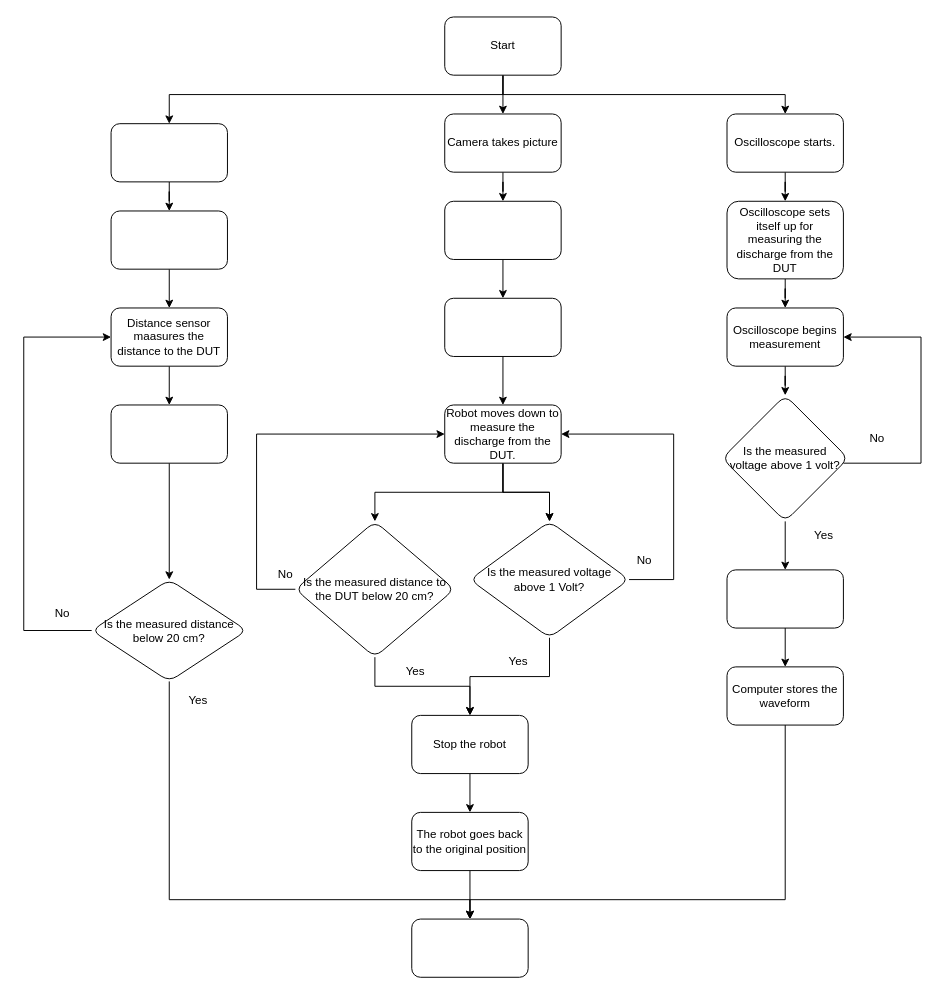
Image size: 946x994. Some labels were removed from this diagram. The box of each missing label's shape, as (x1, y1, x2, y2) in pixels:
Break: (411, 918, 528, 977)
Camera finds distance to DUT: (444, 200, 561, 259)
Microcontorller sends the measured distance to the computer: (110, 404, 227, 463)
Microcontroller starts: (110, 123, 227, 182)
Microcontroller starts distance sensor.: (110, 210, 227, 269)
Oscilloscope sends the full waveform measured to the computer.: (726, 569, 843, 628)
Robot moves to DUT: (444, 297, 561, 356)
